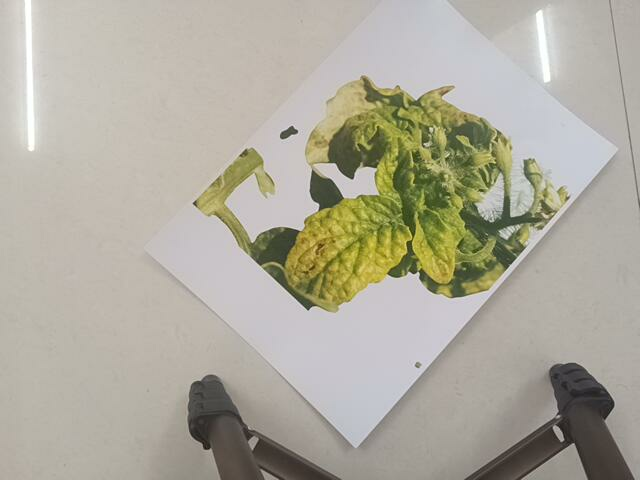Tomamto_Leaf_curl_virus: (189, 72, 587, 313)
